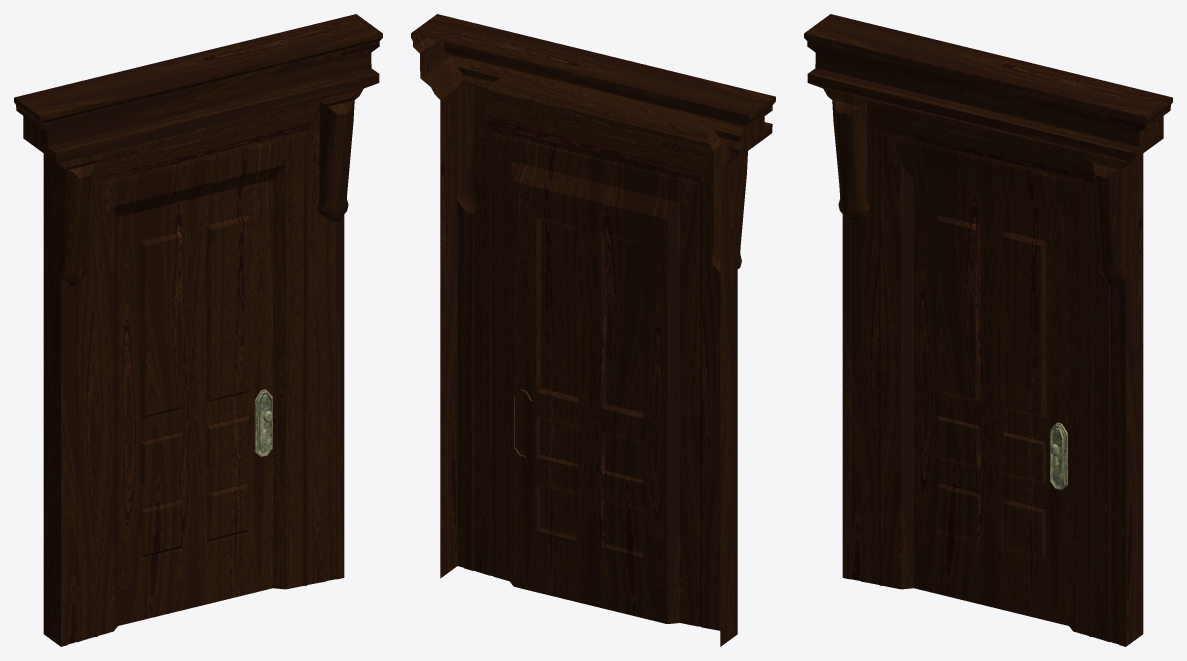
Rendered from door_grain.fbx.
3 renders of one model, left to right at view 1: azimuth 30°, elevation 25°; view 2: azimuth 150°, elevation 25°; view 3: azimuth 330°, elevation 25°, orthographic.
Parts seen in each view (by area): view 1: pCube1, pCube2; view 2: pCube1; view 3: pCube1, pCube2.
Part boxes in pixels (box(x1,y1,x2,y2)): pCube1: box(14, 14, 382, 646); pCube2: box(254, 389, 272, 456); pCube1: box(411, 14, 775, 646); pCube1: box(804, 14, 1172, 646); pCube2: box(1050, 422, 1067, 489).
Size of the model in its own units: 24.66 by 37.46 by 4.03.
